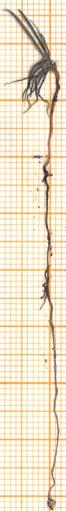flower: (5, 1, 66, 117)
root: (28, 157, 66, 511)
stem: (41, 73, 66, 155)
